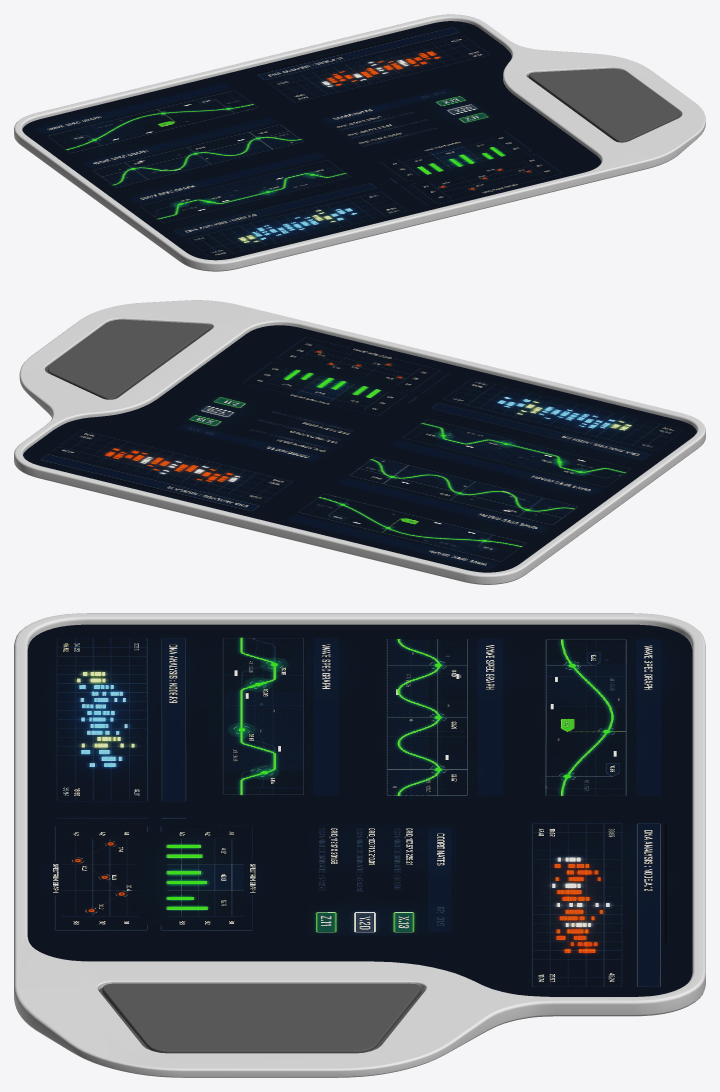
The model's file is sci_fi_tablet_fbx.fbx.
The picture shows the model from 3 angles, top to bottom: view 1: azimuth 30°, elevation 25°; view 2: azimuth 150°, elevation 25°; view 3: azimuth 270°, elevation 25°; orthographic projection. The views are drawn at different scales.
Parts seen in each view (by area): view 1: Sci-fi Tablet; view 2: Sci-fi Tablet; view 3: Sci-fi Tablet.
Boxes of the visible parts, left/top/right/bottom form: Sci-fi Tablet: left=14, top=14, right=705, bottom=271; Sci-fi Tablet: left=14, top=300, right=705, bottom=584; Sci-fi Tablet: left=14, top=613, right=705, bottom=1077.
Bounding box in the file's own units: 31.14 × 0.5099 × 20.05.
Materials: 4 (1 with a texture image).
